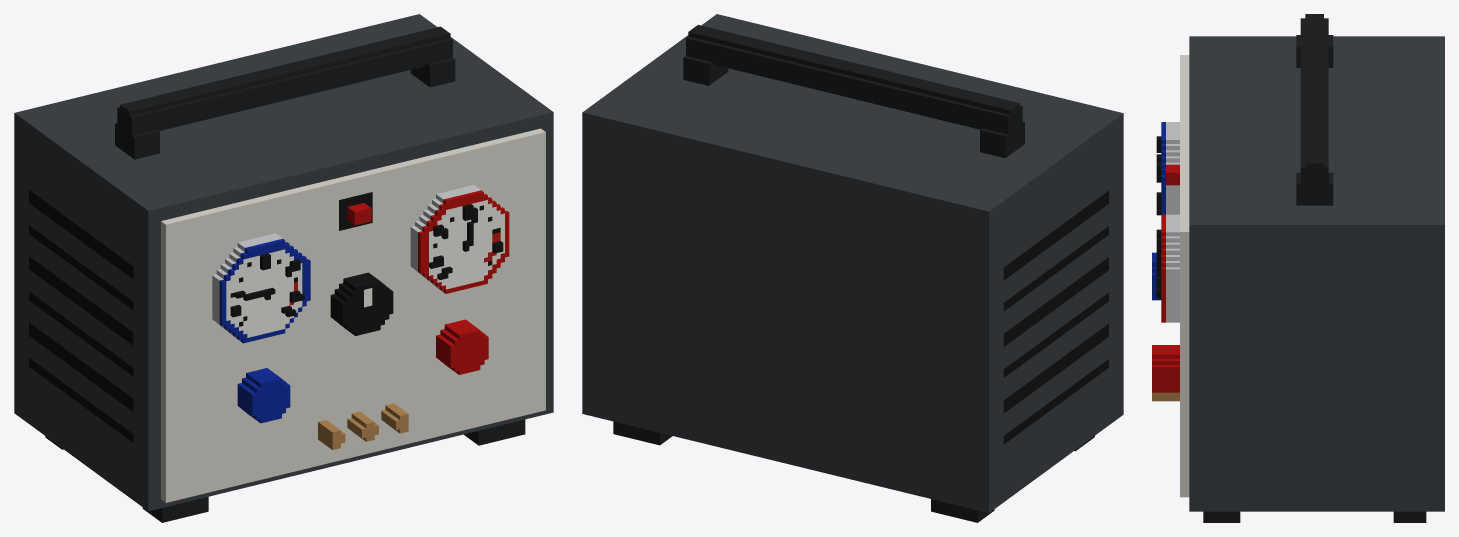
File: recovery_pump.glb
3 renders of one model, left to right at view 1: azimuth 30°, elevation 25°; view 2: azimuth 150°, elevation 25°; view 3: azimuth 270°, elevation 25°, orthographic. The views are drawn at different scales.
Parts seen in each view (by area): view 1: recovery_pump:compound; view 2: recovery_pump:compound; view 3: recovery_pump:compound.
Part boxes in pixels (<box>): recovery_pump:compound: <box>14,14,553,522</box>; recovery_pump:compound: <box>582,14,1123,522</box>; recovery_pump:compound: <box>1152,14,1444,522</box>.
Bounding box in the file's own units: 0.384 × 0.332 × 0.252.
